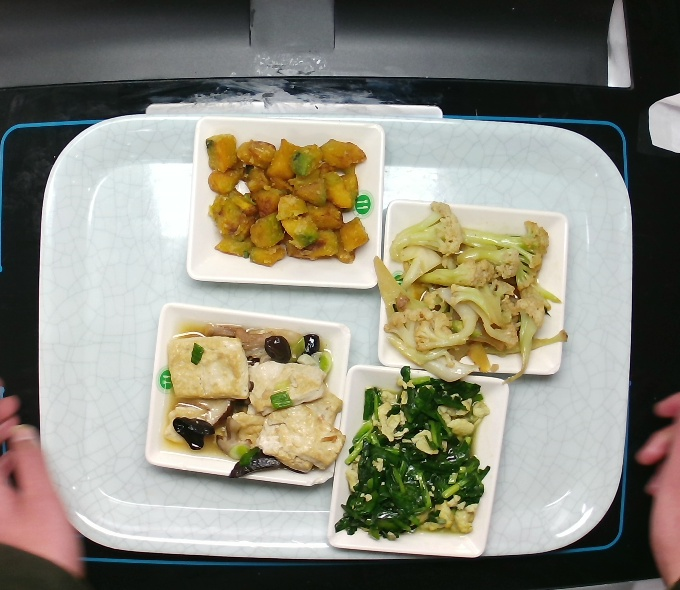wcq-DanHuangNanGua: (193, 124, 371, 277)
wcq-JiaChangDouFu: (164, 288, 348, 497)
wcq-JiuCaiJiDan: (333, 366, 496, 555)
wcq-QiuCai: (371, 205, 570, 385)
